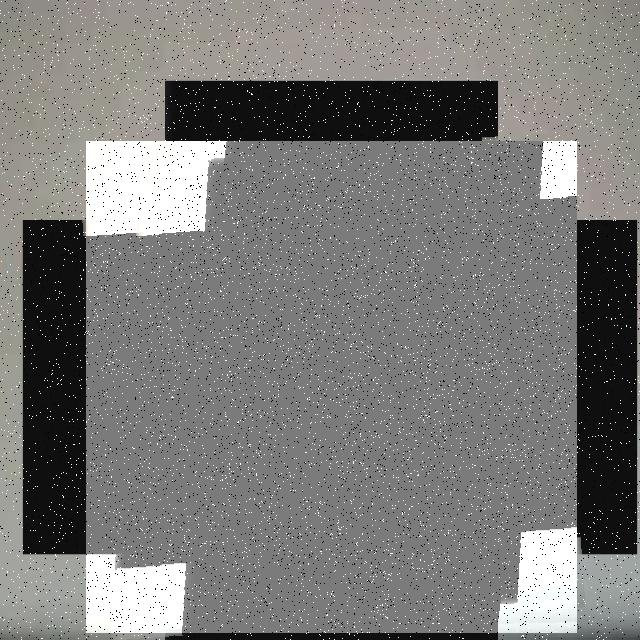dua puluh ribu rupiah: (86, 141, 577, 633)
